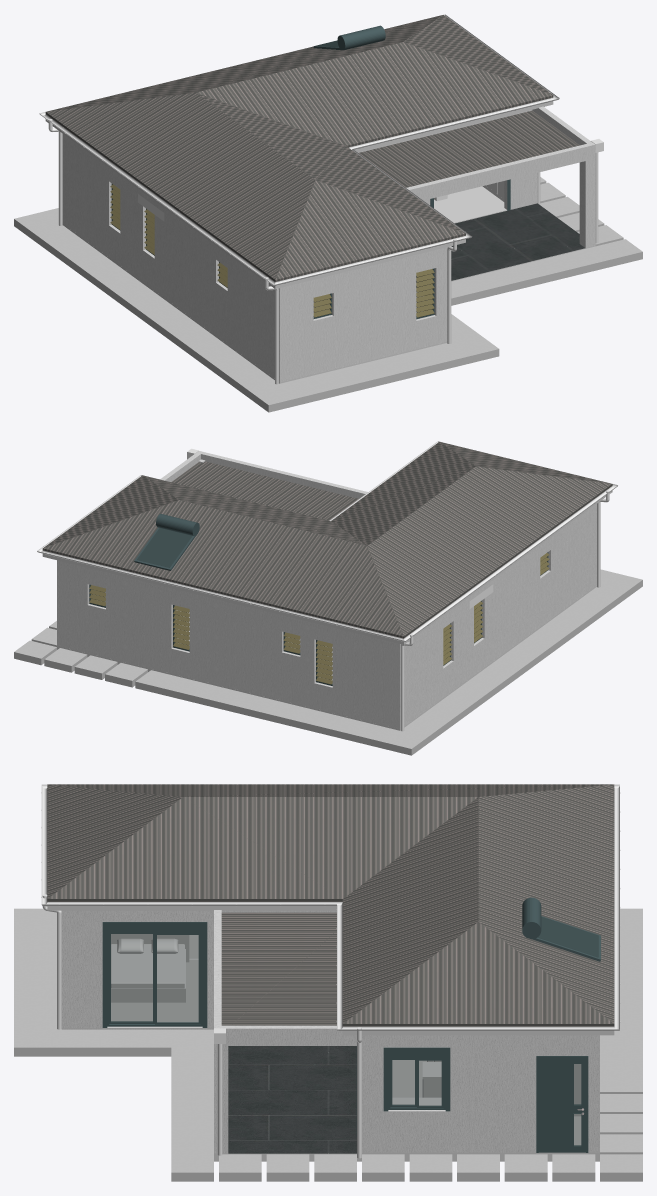
The model's file is INTEMPOREL6.glb.
The picture shows the model from 3 angles, top to bottom: view 1: azimuth 30°, elevation 25°; view 2: azimuth 150°, elevation 25°; view 3: azimuth 270°, elevation 25°; orthographic projection. The views are drawn at different scales.
Visible parts, largest first — view 1: toit001, toit, Geometry36_dalles_0, Geometry17_murs_0, Geometry16_murs_0, Geometry39_toitpatio_0, Geometry40_sol dark_0, Geometry38_murs_0, Geometry27_murs2_0, Geometry102_murs_0, Geometry54_gouttiere_0, Geometry15_murs_0 (+8 smaller); view 2: toit001, Geometry14_murs_0, toit, Geometry17_murs_0, Geometry36_dalles_0, Geometry39_toitpatio_0, Geometry143_acier_0, Geometry165_murs2_0, Geometry38_murs_0, Geometry58_gouttiere_0, vitrevasist, Geometry27_murs2_0 (+9 smaller); view 3: toit001, toit, Geometry36_dalles_0, Geometry13_murs_0, Geometry40_sol dark_0, Geometry39_toitpatio_0, Geometry29_vitre_0, Geometry18_murs_0, Geometry27_murs2_0, Geometry73_interieur_0, Geometry127_acierpaint_0, Geometry77_murs_0 (+33 smaller).
Boxes of the visible parts, x1=… form: toit001: x1=45, y1=15, x2=552, y2=281; toit: x1=47, y1=15, x2=553, y2=281; Geometry36_dalles_0: x1=14, y1=208, x2=642, y2=412; Geometry17_murs_0: x1=64, y1=135, x2=274, y2=378; Geometry16_murs_0: x1=278, y1=247, x2=447, y2=382; Geometry39_toitpatio_0: x1=358, y1=110, x2=579, y2=187; Geometry40_sol dark_0: x1=416, y1=203, x2=584, y2=287; Geometry38_murs_0: x1=406, y1=143, x2=595, y2=200; Geometry27_murs2_0: x1=62, y1=186, x2=537, y2=383; Geometry102_murs_0: x1=579, y1=158, x2=595, y2=247; Geometry54_gouttiere_0: x1=39, y1=113, x2=275, y2=285; Geometry15_murs_0: x1=358, y1=110, x2=532, y2=209; toit001: x1=44, y1=442, x2=612, y2=638; Geometry14_murs_0: x1=62, y1=561, x2=400, y2=729; toit: x1=42, y1=442, x2=610, y2=638; Geometry17_murs_0: x1=404, y1=505, x2=595, y2=725; Geometry36_dalles_0: x1=135, y1=569, x2=642, y2=755; Geometry39_toitpatio_0: x1=171, y1=461, x2=358, y2=520; Geometry143_acier_0: x1=134, y1=514, x2=199, y2=570; Geometry165_murs2_0: x1=42, y1=551, x2=403, y2=644; Geometry38_murs_0: x1=199, y1=451, x2=367, y2=498; Geometry58_gouttiere_0: x1=37, y1=550, x2=405, y2=641; vitrevasist: x1=137, y1=528, x2=191, y2=567; Geometry27_murs2_0: x1=57, y1=585, x2=596, y2=730; toit001: x1=47, y1=784, x2=614, y2=1026; toit: x1=47, y1=784, x2=614, y2=1023; Geometry36_dalles_0: x1=14, y1=908, x2=642, y2=1181; Geometry13_murs_0: x1=362, y1=1035, x2=599, y2=1152; Geometry40_sol dark_0: x1=228, y1=1046, x2=356, y2=1153; Geometry39_toitpatio_0: x1=221, y1=912, x2=336, y2=1025; Geometry29_vitre_0: x1=111, y1=934, x2=198, y2=1022; Geometry18_murs_0: x1=69, y1=910, x2=336, y2=1027; Geometry27_murs2_0: x1=61, y1=935, x2=599, y2=1161; Geometry73_interieur_0: x1=111, y1=934, x2=185, y2=1002; Geometry127_acierpaint_0: x1=536, y1=1056, x2=588, y2=1152; Geometry77_murs_0: x1=214, y1=1025, x2=356, y2=1045.
Size of the model in its own units: 13.1 by 4.41 by 13.2.
15 materials, 6 textured.
